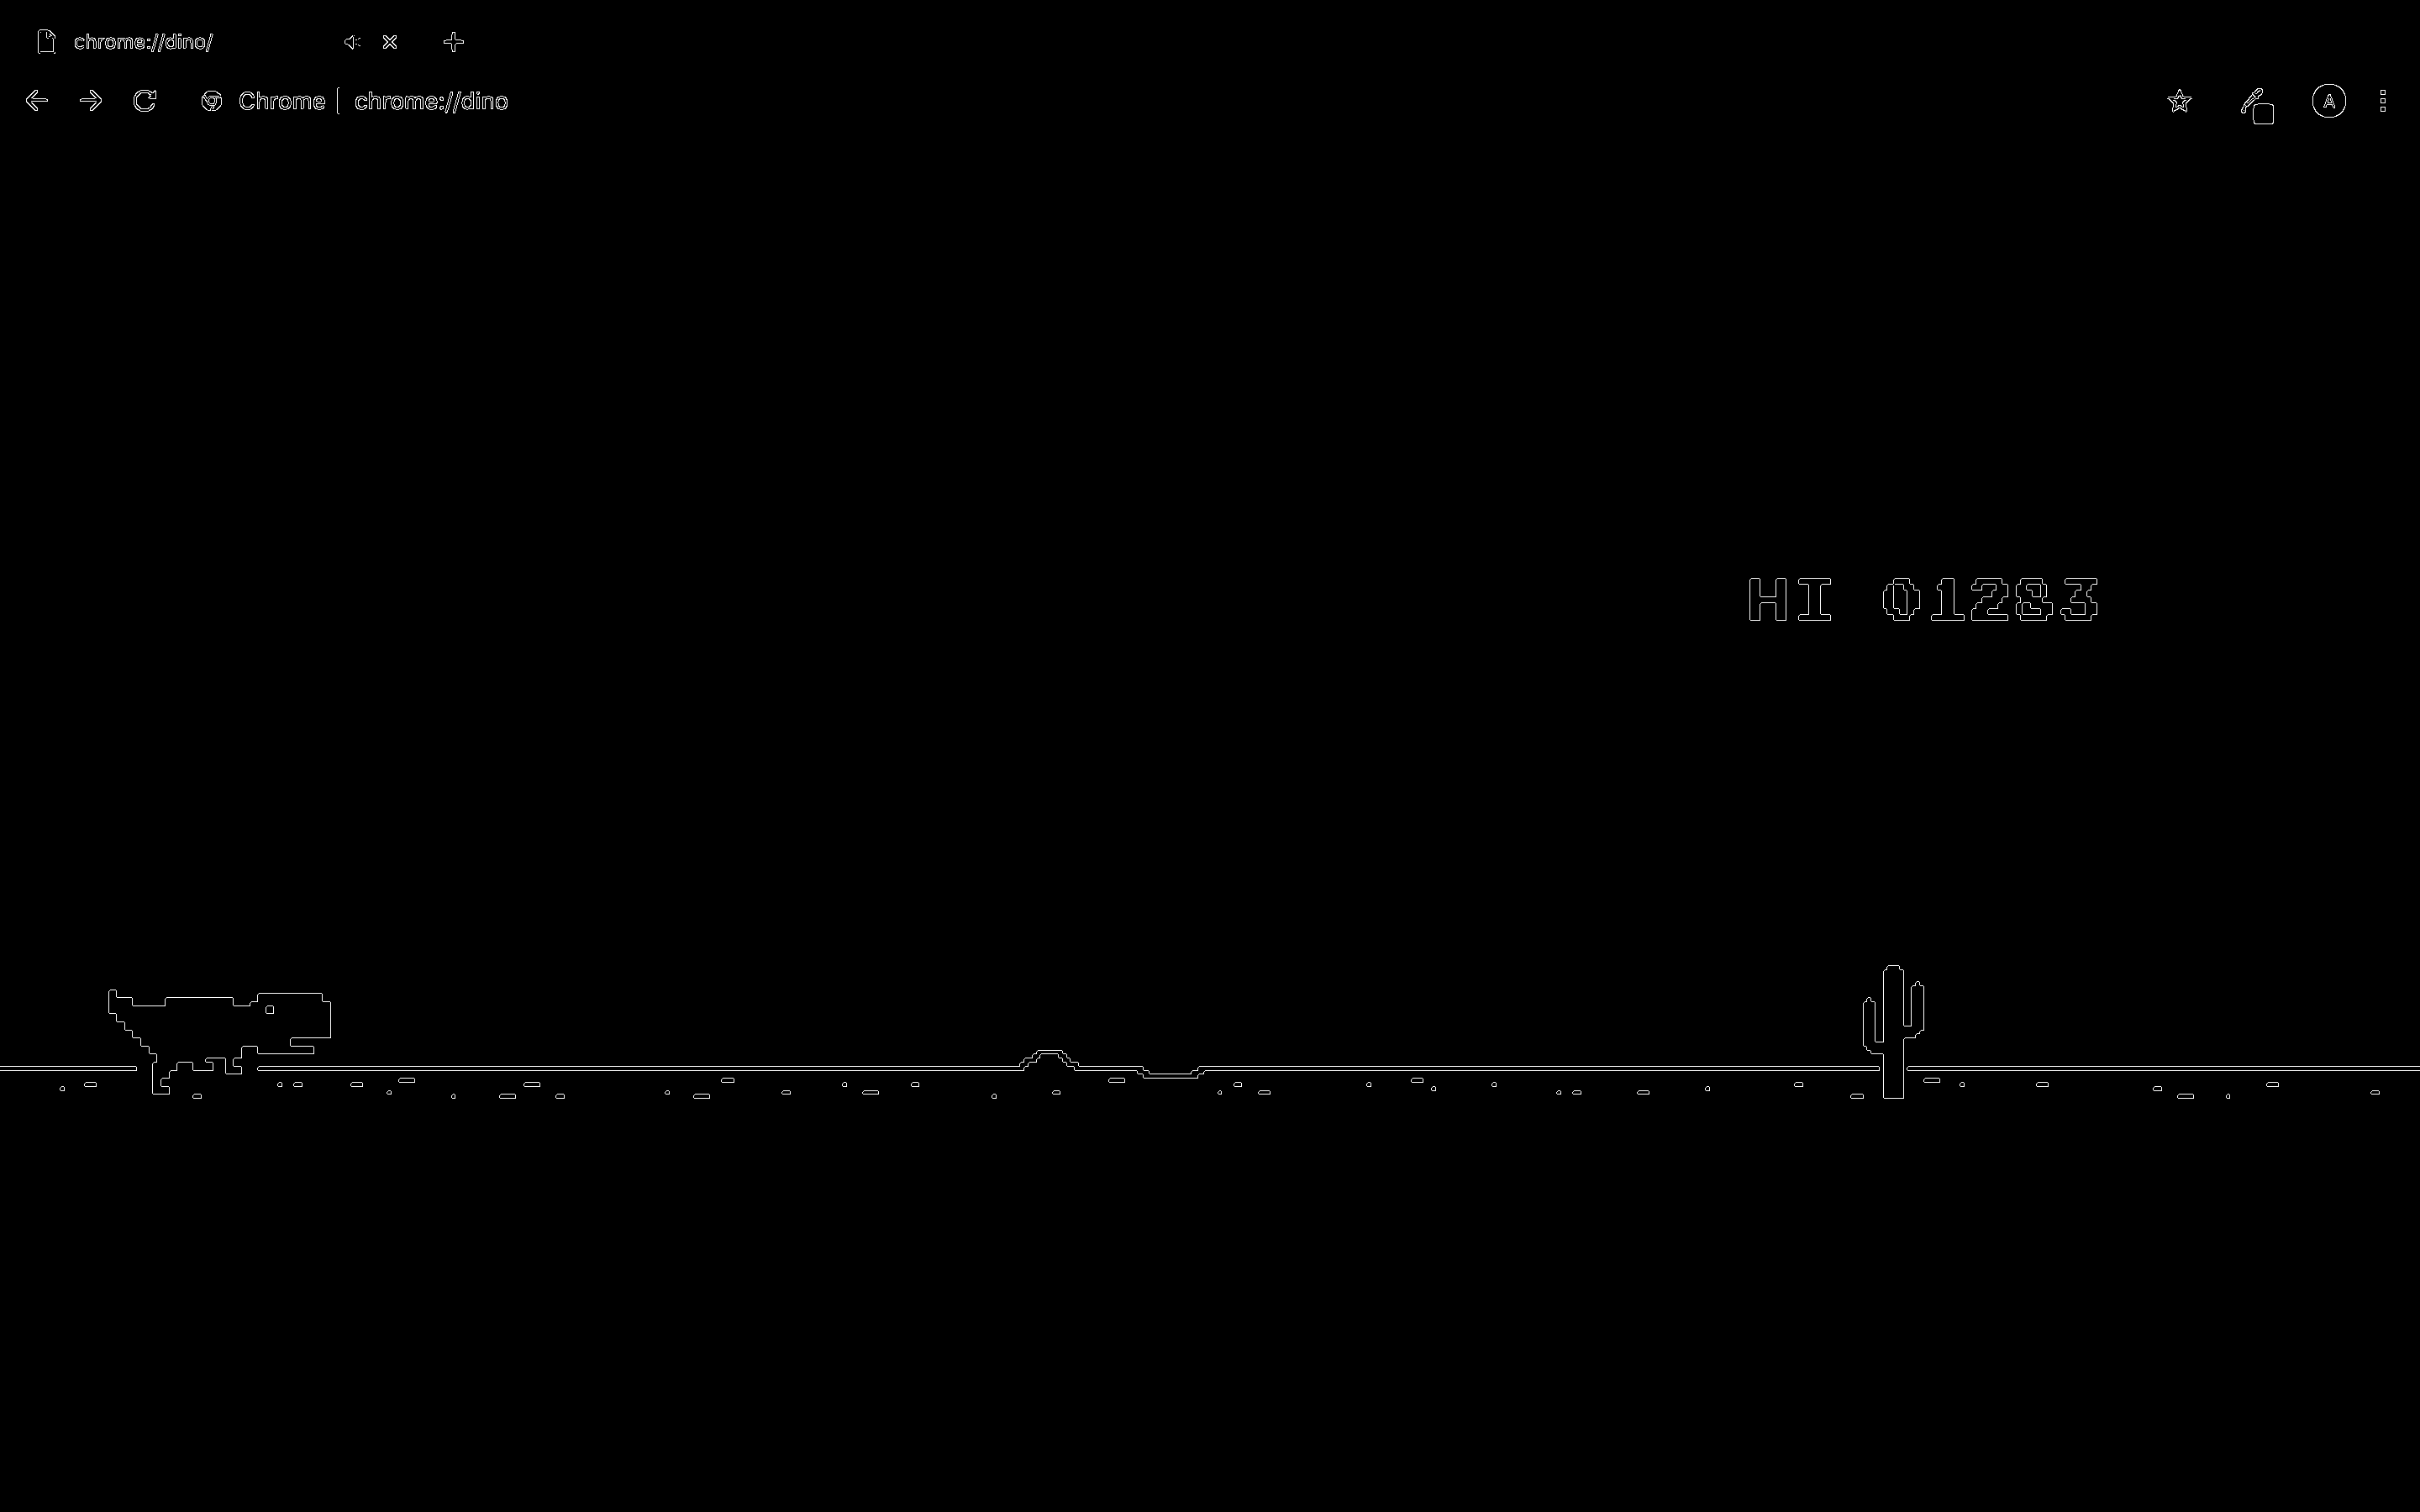Cactus: (1852, 967, 1941, 1096)
Dino: (106, 981, 341, 1097)
